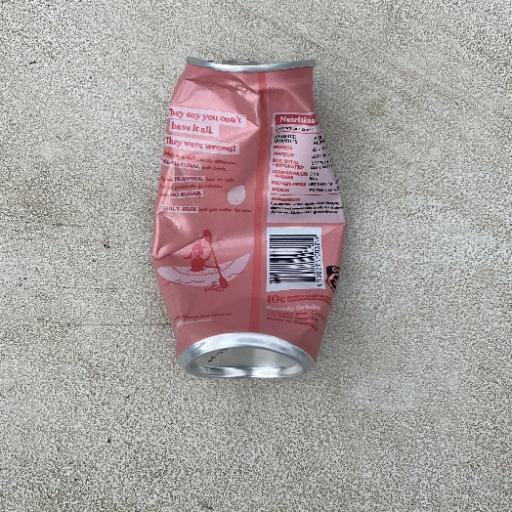Metal: (149, 55, 348, 381)
